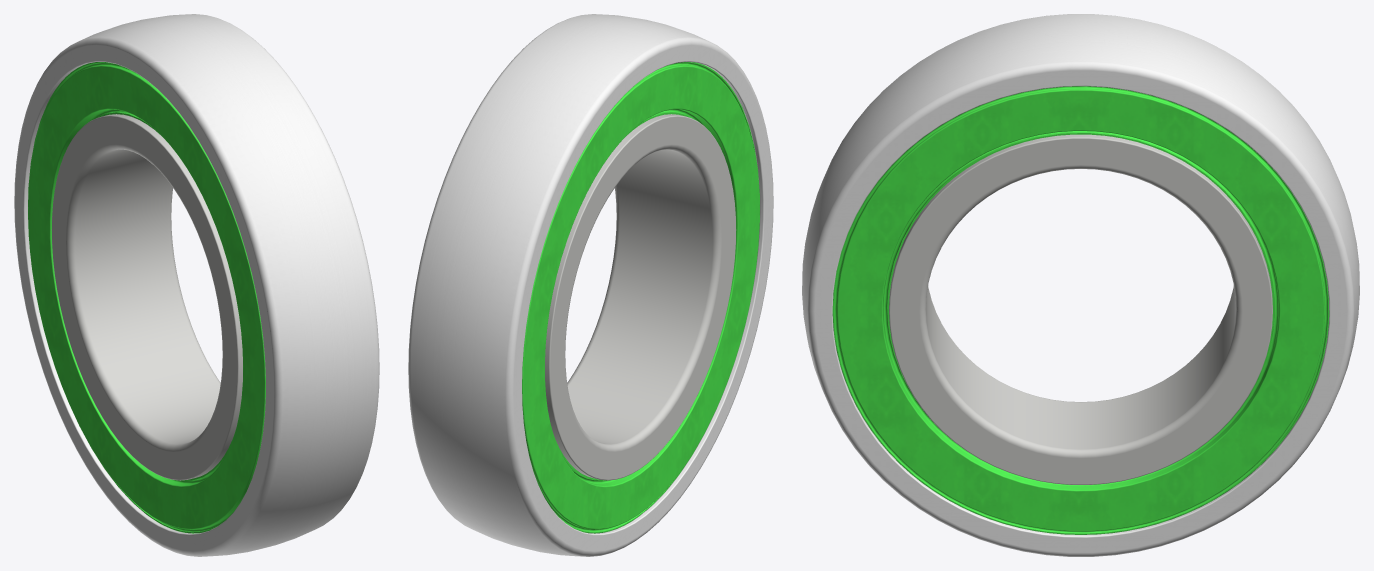
The picture shows the model from 3 angles, left to right: view 1: azimuth 30°, elevation 25°; view 2: azimuth 150°, elevation 25°; view 3: azimuth 270°, elevation 25°; orthographic projection. The views are drawn at different scales.
Visible parts, largest first — view 1: texture, matte platinum, texture-3; view 2: texture, matte platinum, texture-3; view 3: texture-3, texture, matte platinum.
Part boxes in pixels (box(x1,y1,x2,y2)): texture: box(14, 14, 379, 556); matte platinum: box(51, 114, 242, 480); texture-3: box(28, 62, 265, 533); texture: box(408, 14, 773, 556); matte platinum: box(545, 114, 736, 480); texture-3: box(522, 62, 759, 533); texture-3: box(832, 86, 1329, 534); texture: box(802, 14, 1359, 556); matte platinum: box(889, 134, 1272, 484).
Bounding box in the file's own units: 0.02 × 0.0899 × 0.0899.
7 materials, 5 textured.
